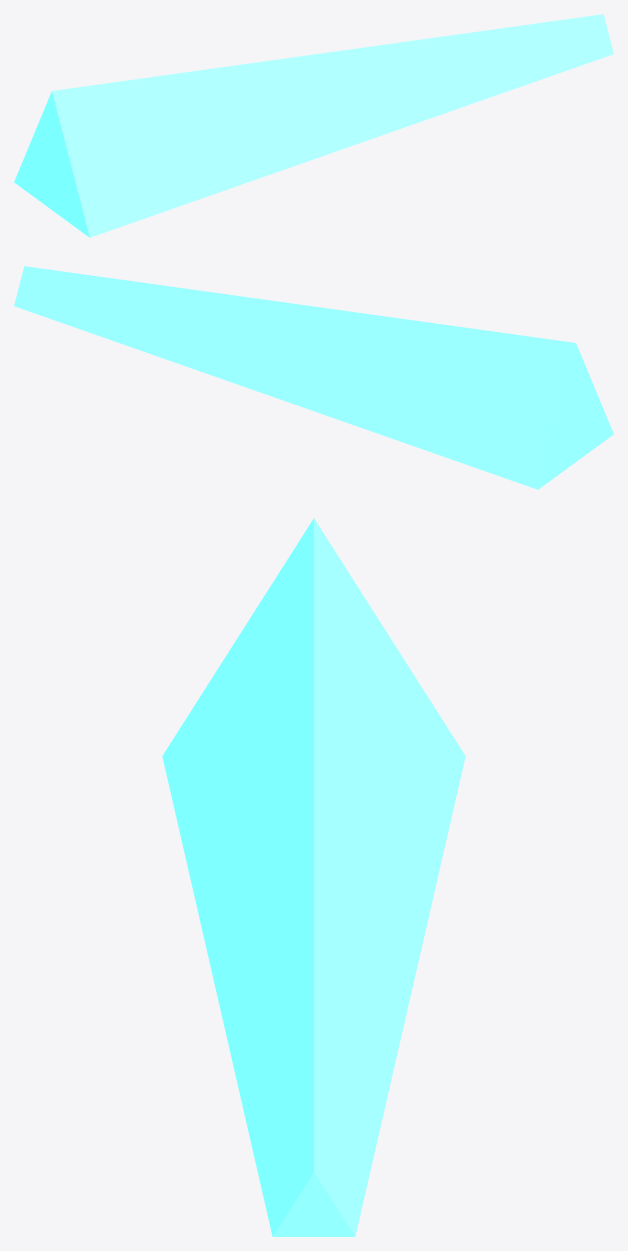
The model's file is spark_chip.glb.
The picture shows the model from 3 angles, top to bottom: view 1: azimuth 30°, elevation 25°; view 2: azimuth 150°, elevation 25°; view 3: azimuth 270°, elevation 25°; orthographic projection. The views are drawn at different scales.
Visible parts, largest first — view 1: body; view 2: body; view 3: body.
Part boxes in pixels (<box>): body: <box>14,14,613,237</box>; body: <box>14,266,613,489</box>; body: <box>162,518,465,1236</box>.
Bounding box in the file's own units: 0.016 × 0.0033 × 0.00381.
